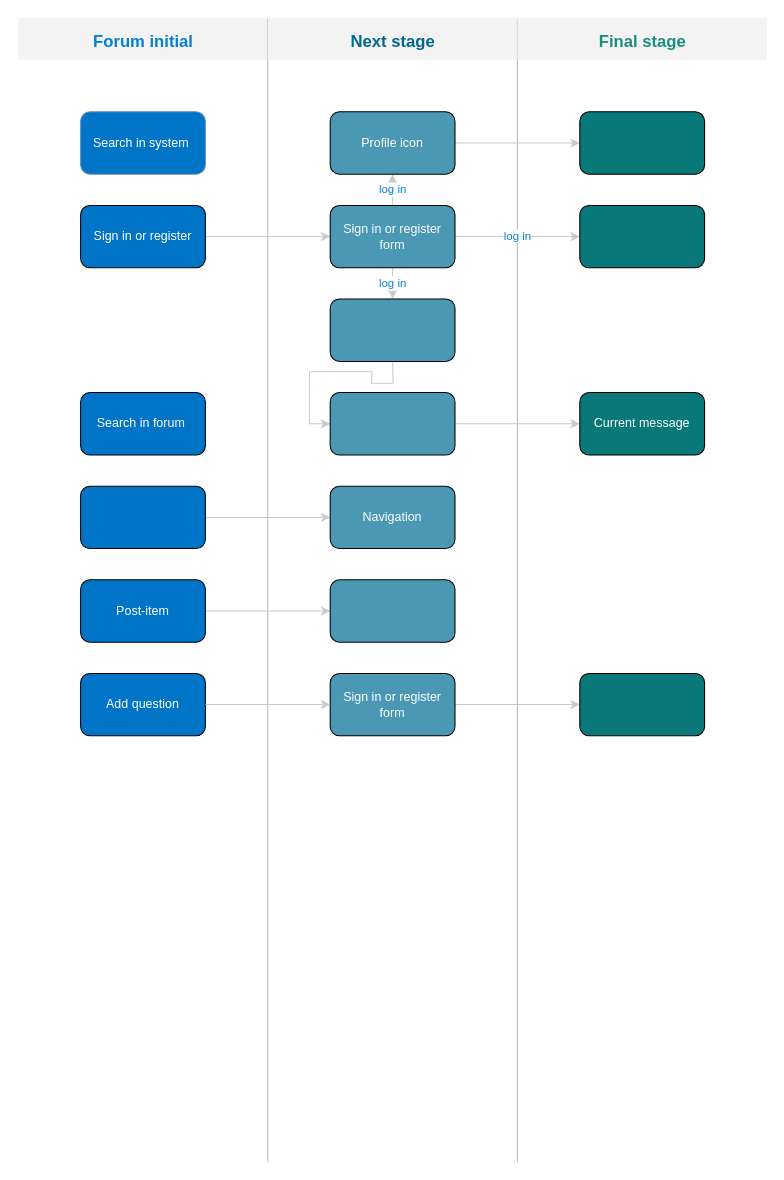
Some shapes in this 784 by 1180 pixel diagram are drawn without their labels. Each missing label, with the centre of its shape:
"Current post" belongs at [392,610].
"Form for add a question" belongs at [642,704].
"Hamburger menu" belongs at [142,517].
"Profile drop down button-unread message" belongs at [392,329].
"Profile page" belongs at [642,142].
"Show important or unread message" belongs at [392,423].
"Telerik home" belongs at [642,236].
